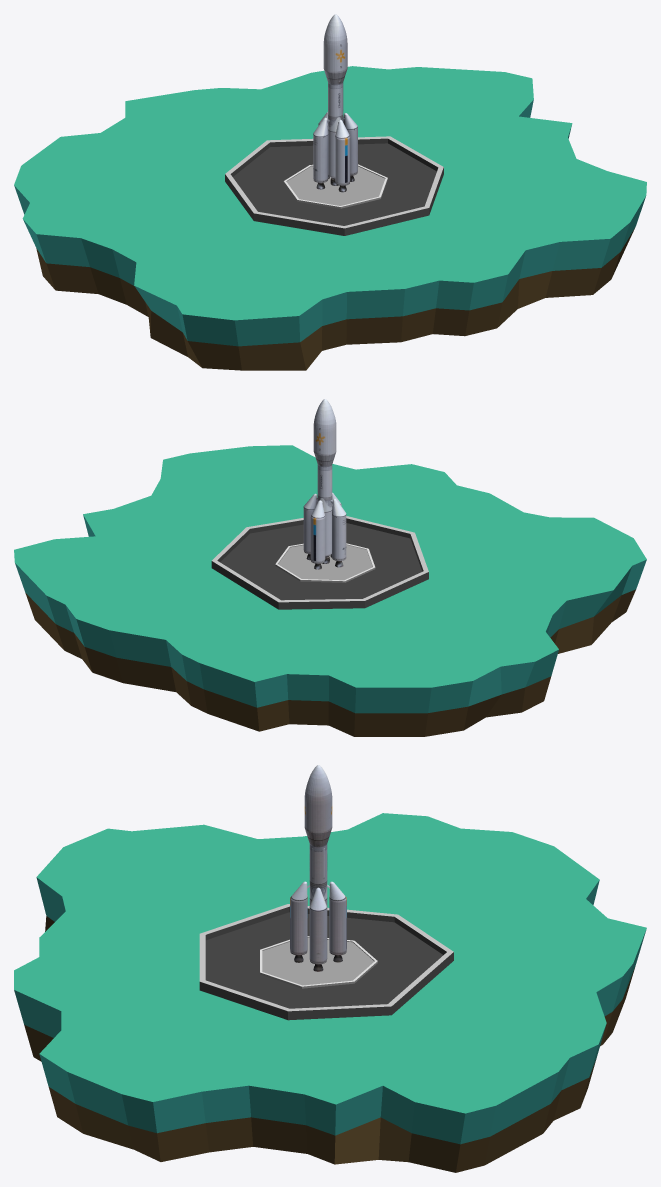
Rendered from gravity1.gltf.
3 views of the same model, one above another, from view 1: azimuth 30°, elevation 25°; view 2: azimuth 150°, elevation 25°; view 3: azimuth 270°, elevation 25° (orthographic). The views are drawn at different scales.
Parts seen in each view (by area): view 1: Cylinder.003, Cylinder.001; view 2: Cylinder.003, Cylinder.001; view 3: Cylinder.003, Cylinder.001.
Boxes of the visible parts, x1,y1,x2,y2 form: Cylinder.003: [14, 66, 646, 370]; Cylinder.001: [313, 14, 357, 192]; Cylinder.003: [14, 445, 646, 736]; Cylinder.001: [303, 399, 346, 569]; Cylinder.003: [14, 813, 646, 1172]; Cylinder.001: [290, 765, 346, 971].
Size of the model in its own units: 8.06 by 3.38 by 7.18.
9 materials, 1 textured.
